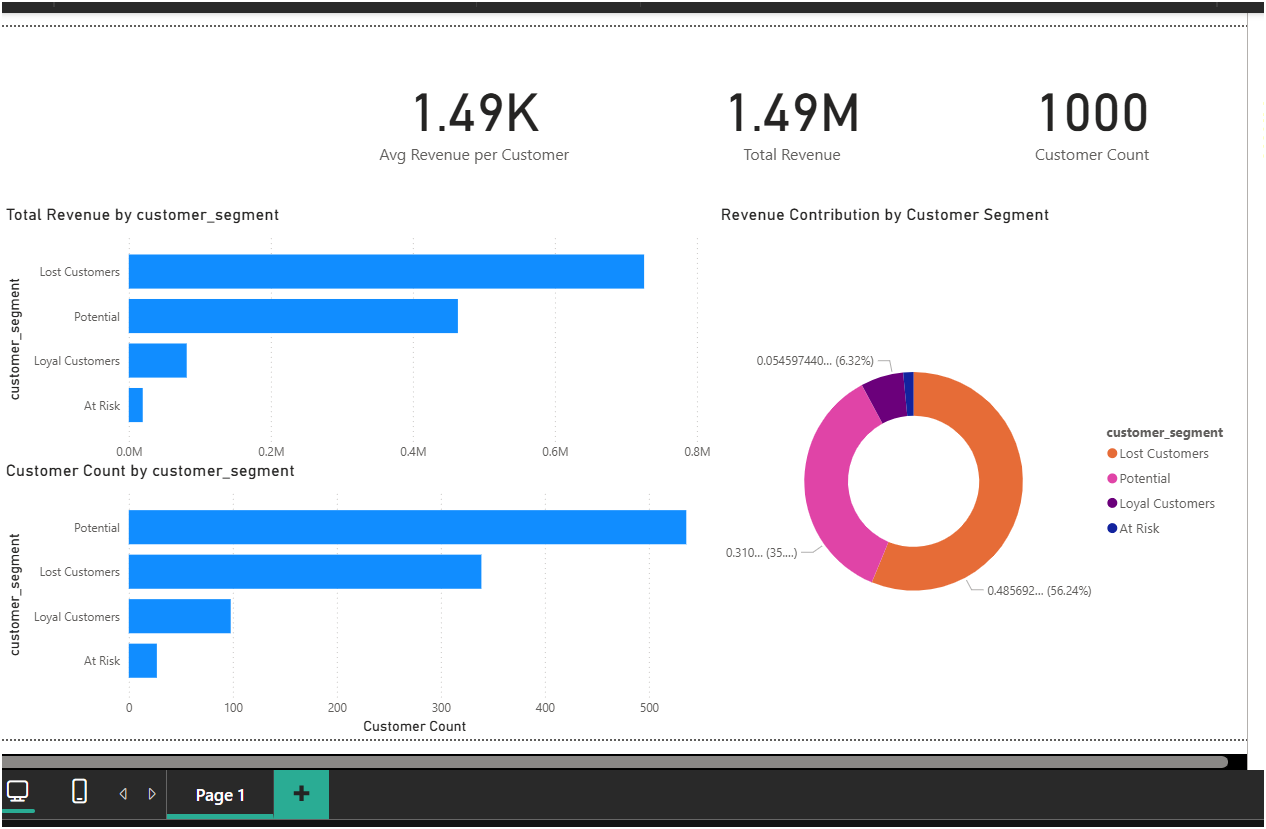

What the dashboard file says about the page in this screenshot:
{"tool":"powerbi","page":{"name":"Page 1","canvas":[1280,720],"ordinal":0},"visuals":[{"type":"clusteredBarChart","fields":{"Y":["rfm_base.Total Revenue"],"Category":["rfm_segment.customer_segment"]},"box":[0,180,722.9,281.4],"z":0},{"type":"clusteredBarChart","fields":{"Category":["rfm_segment.customer_segment"],"Y":["rfm_base.Customer Count"]},"box":[0,438.6,722.9,281.4],"z":1},{"type":"donutChart","title":"Revenue Contribution by Customer Segment","fields":{"Y":["rfm_base.Revenue %"],"Category":["rfm_segment.customer_segment"]},"box":[722.9,180,534.3,540],"z":2},{"type":"card","fields":{"Values":["rfm_base.Total Revenue"]},"box":[650,0,300,180],"z":3},{"type":"card","fields":{"Values":["rfm_base.Avg Revenue per Customer"]},"box":[328.6,0,300,180],"z":4},{"type":"card","fields":{"Values":["rfm_base.Customer Count"]},"box":[950,0,307.1,180],"z":5}]}

Visuals, with their boxes on the page's 1280x720 design canvas (x1, y1, x2, y2). These are canvas units, not pixel positions in the 1266x829 screenshot, which may show the page scaled, cropped or inside an application window:
clusteredBarChart - rfm_base.Total Revenue x rfm_segment.customer_segment: <box>0,180,723,461</box>
clusteredBarChart - rfm_segment.customer_segment x rfm_base.Customer Count: <box>0,439,723,720</box>
"Revenue Contribution by Customer Segment" donutChart: <box>723,180,1257,720</box>
card - rfm_base.Total Revenue: <box>650,0,950,180</box>
card - rfm_base.Avg Revenue per Customer: <box>329,0,629,180</box>
card - rfm_base.Customer Count: <box>950,0,1257,180</box>
